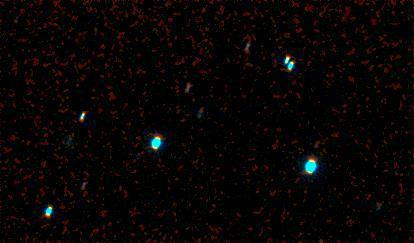star: (167, 76, 197, 106)
